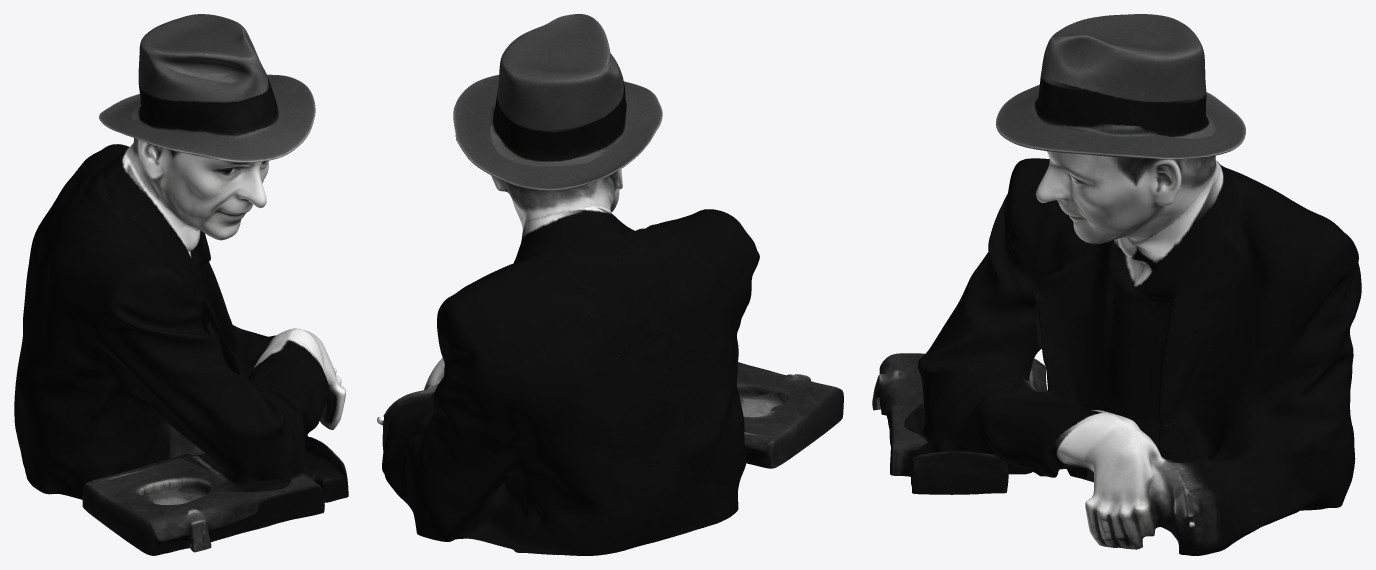
Rendered from The_Chairman_Optimized_under_2MB.glb.
3 views of the same model, side by side, from view 1: azimuth 30°, elevation 25°; view 2: azimuth 150°, elevation 25°; view 3: azimuth 270°, elevation 25° (orthographic). The views are drawn at different scales.
Bounding box in the file's own units: 1.5 × 1.9 × 1.83.
1 material, 1 textured.
